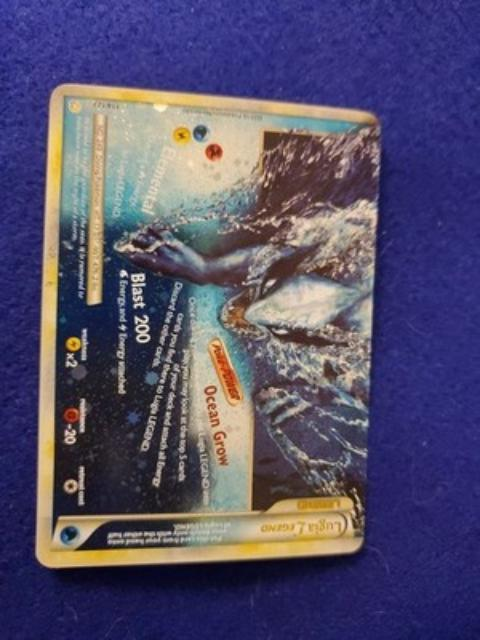Card: (31, 80, 384, 573)
Name: (255, 515, 344, 543)
